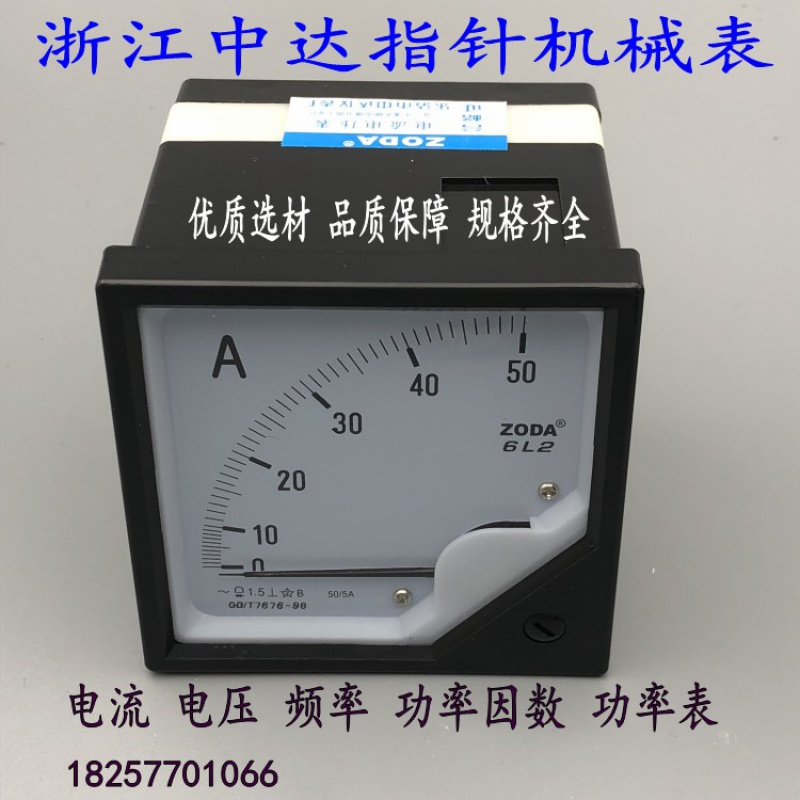pointer: (134, 299, 601, 649)
